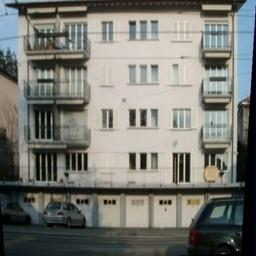building: (18, 0, 241, 236)
